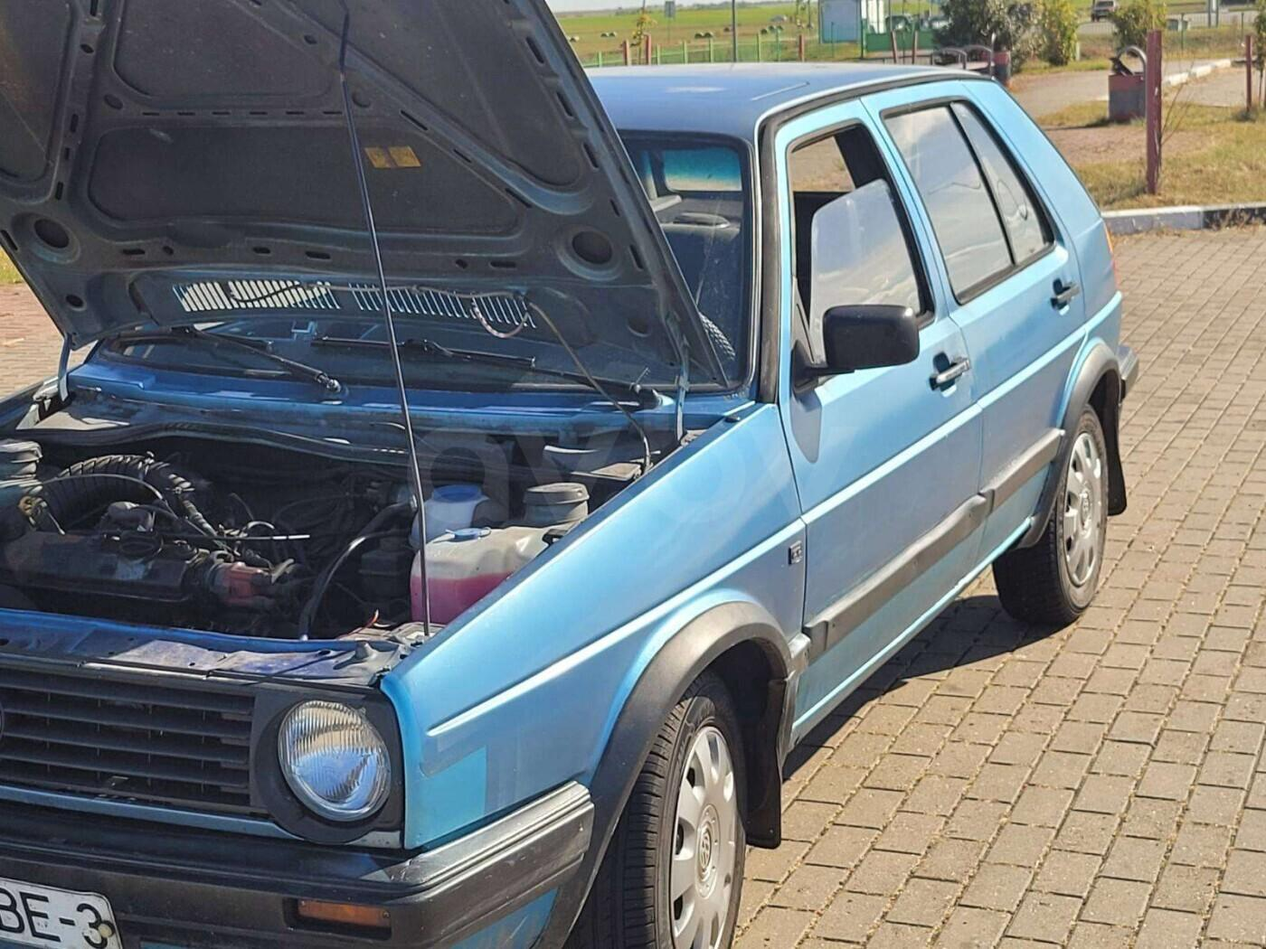Golf_1983-1992: (0, 46, 1140, 948)
